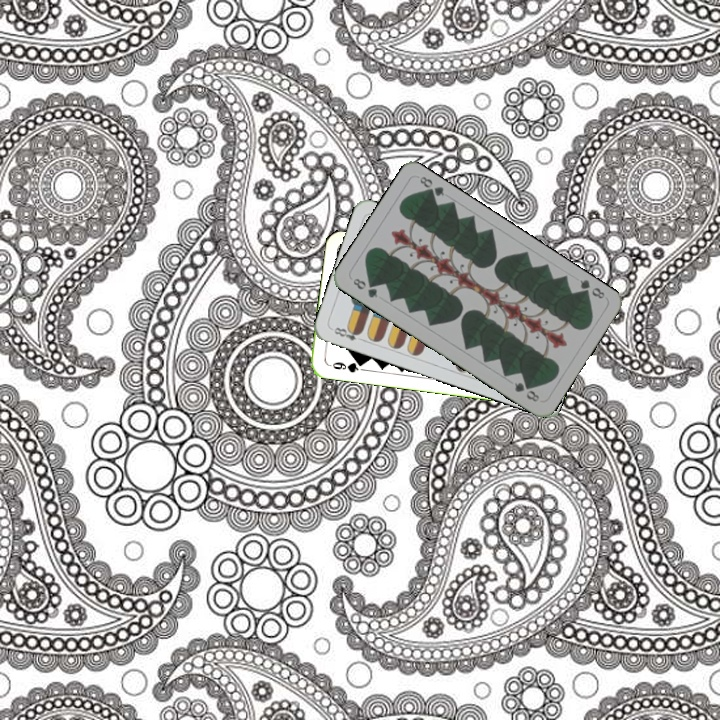E8: (330, 323, 367, 344)
G8: (575, 275, 607, 301), (349, 274, 380, 300)
G9: (324, 358, 366, 375)
